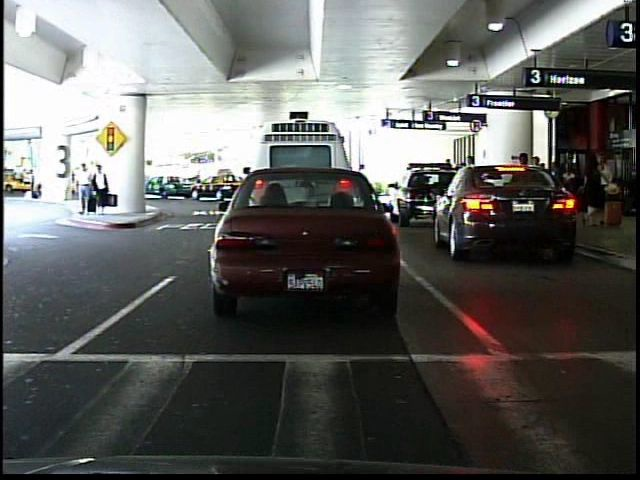person: (89, 160, 112, 220), (72, 157, 94, 218), (352, 158, 374, 203), (28, 165, 43, 204), (189, 166, 207, 196)
